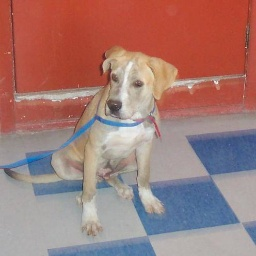dog: (54, 45, 172, 237)
